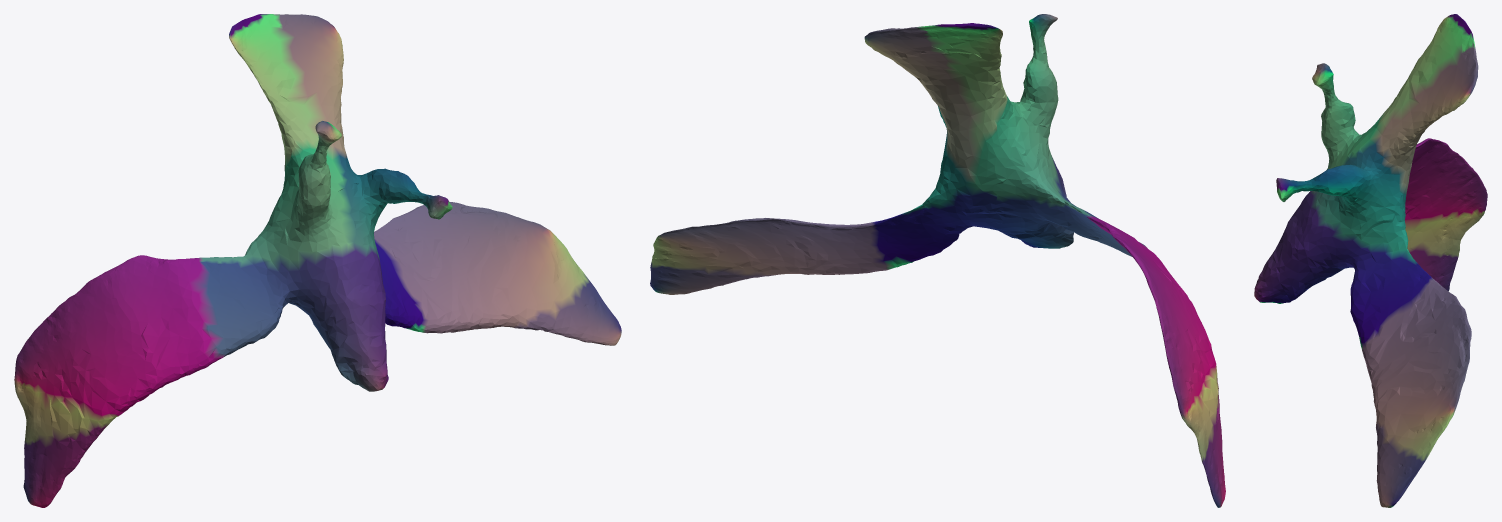
Rendered from bird2-10.off.obj.
3 views of the same model, side by side, from view 1: azimuth 30°, elevation 25°; view 2: azimuth 150°, elevation 25°; view 3: azimuth 270°, elevation 25° (orthographic). The views are drawn at different scales.
Bounding box in the file's own units: 1.45 × 1.02 × 0.5637.
